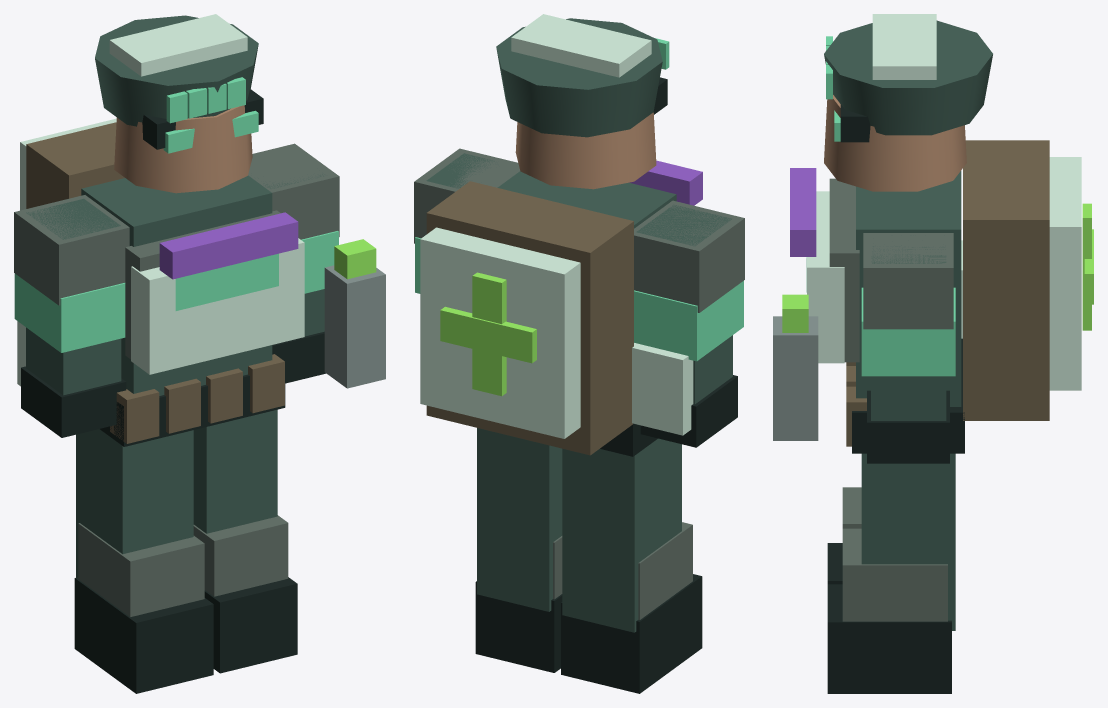
File: medic_l04.glb
3 views of the same model, side by side, from view 1: azimuth 30°, elevation 25°; view 2: azimuth 150°, elevation 25°; view 3: azimuth 270°, elevation 25° (orthographic).
Visible parts, largest first — view 1: trouser (×2), boot (×2), shoulder_plate (×2), knee_plate (×2), reinforced_vest, body, face, helmet, rank_stripe (×2), sleeve (×2), aid_injector, glove (×2) (+17 smaller); view 2: trouser (×2), medical_pack, field_pack, boot (×2), shoulder_plate (×2), helmet, face, rank_stripe, protective_hood, sleeve (×2), triage_satchel, body (+6 smaller); view 3: field_pack, helmet, boot (×2), trouser, shoulder_plate, medical_pack, knee_plate (×2), face, body, aid_injector, rank_stripe, reinforced_vest (+11 smaller).
Boxes of the visible parts, x1,y1,x2,y2 form: trouser (×2): [76, 409, 277, 577]; boot (×2): [74, 577, 297, 693]; shoulder_plate (×2): [14, 143, 339, 305]; knee_plate (×2): [78, 515, 288, 616]; reinforced_vest: [131, 238, 304, 374]; body: [81, 175, 272, 395]; face: [114, 105, 252, 193]; helmet: [95, 15, 258, 126]; rank_stripe (×2): [14, 231, 338, 352]; sleeve (×2): [26, 174, 324, 395]; aid_injector: [324, 265, 385, 388]; glove (×2): [21, 331, 325, 437]; trouser (×2): [477, 428, 681, 632]; medical_pack: [420, 227, 580, 438]; field_pack: [426, 181, 633, 455]; boot (×2): [475, 574, 702, 693]; shoulder_plate (×2): [414, 148, 744, 312]; helmet: [496, 18, 662, 137]; face: [515, 112, 656, 189]; rank_stripe: [634, 281, 743, 361]; protective_hood: [511, 14, 651, 77]; sleeve (×2): [426, 153, 732, 404]; triage_satchel: [632, 343, 693, 435]; body: [497, 171, 676, 228]; field_pack: [963, 140, 1049, 420]; helmet: [824, 20, 992, 135]; boot (×2): [827, 543, 951, 693]; trouser: [861, 453, 955, 630]; shoulder_plate: [863, 233, 953, 329]; medical_pack: [1049, 157, 1081, 390]; knee_plate (×2): [842, 487, 947, 621]; face: [824, 95, 966, 191]; body: [856, 171, 961, 406]; aid_injector: [773, 316, 818, 440]; rank_stripe: [861, 287, 955, 376]; reinforced_vest: [807, 191, 844, 363].
Size of the model in its own units: 0.875 by 1.8 by 0.8525.
